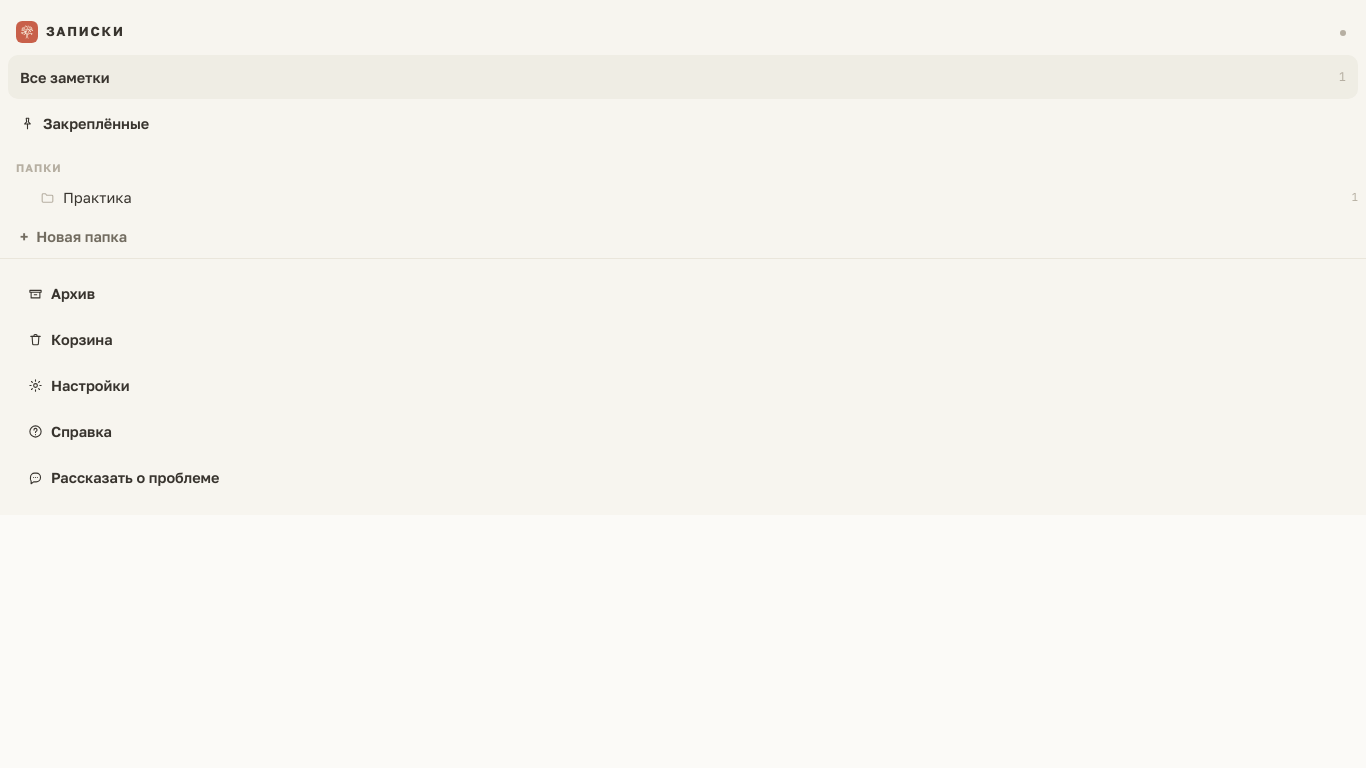
Test: меню папки открывается жестом из ТЗ › «Переименовать» доводит до поля ввода имени
The width and height of the screenshot is (1366, 768).
Right-click the list item at (97, 197), box [0,180,1365,214]
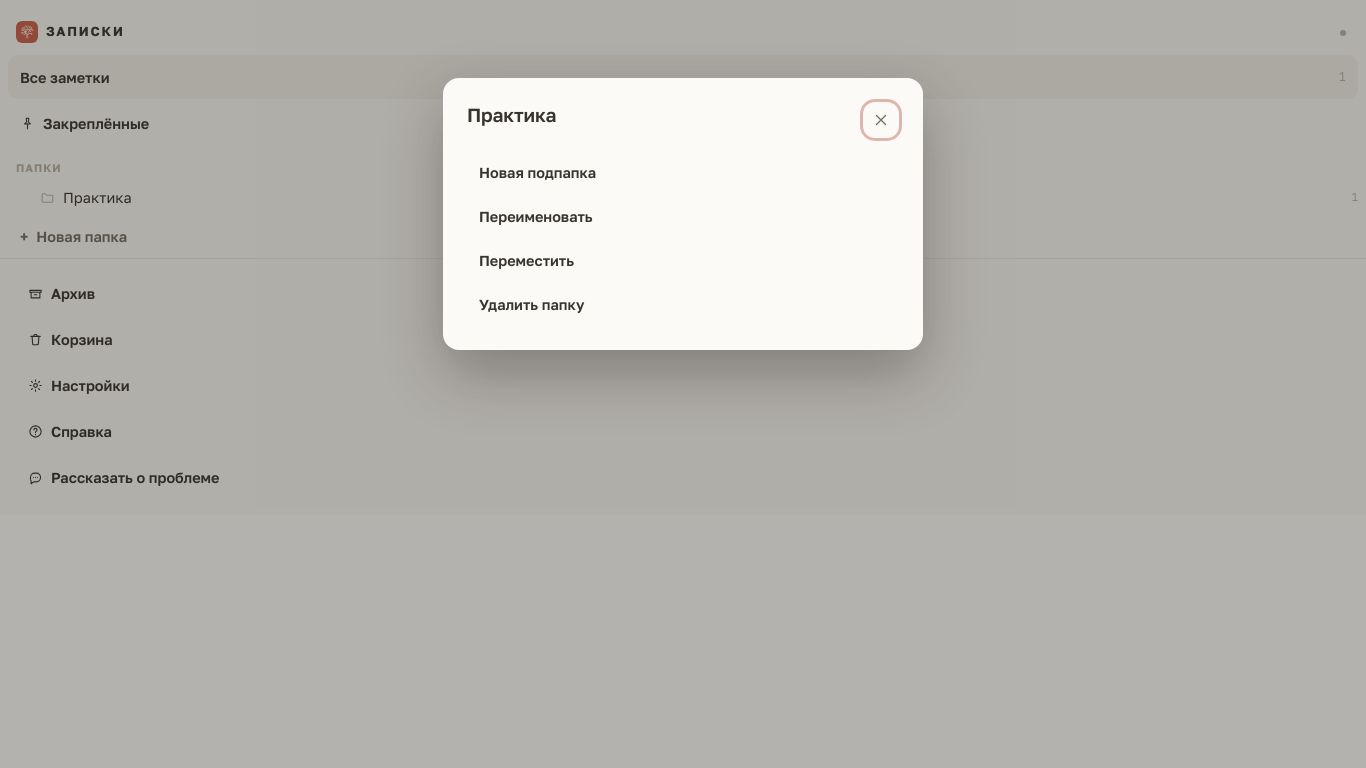
Click the menu item "Переименовать" at (536, 216), box [467,194,899,238]
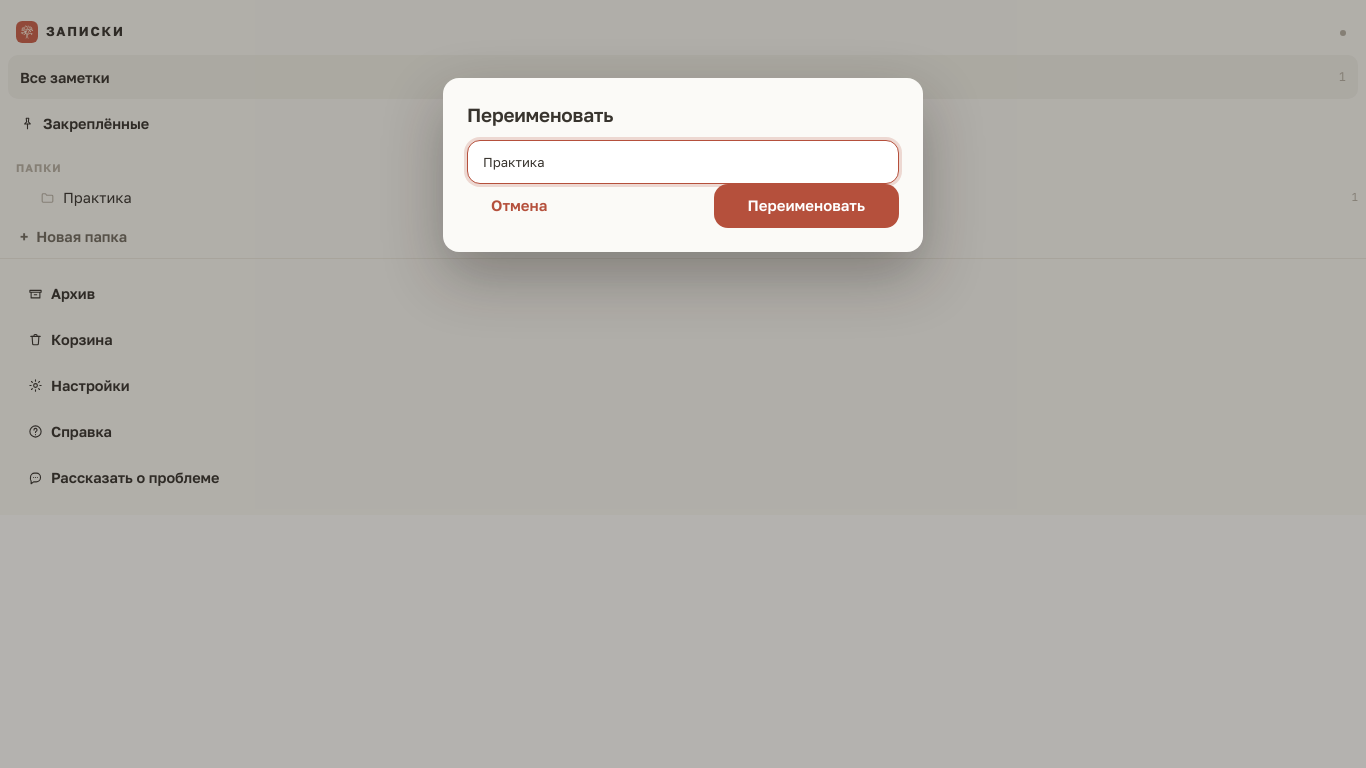
Result: the field named "Название папки" is shown at [483,153,883,171]
